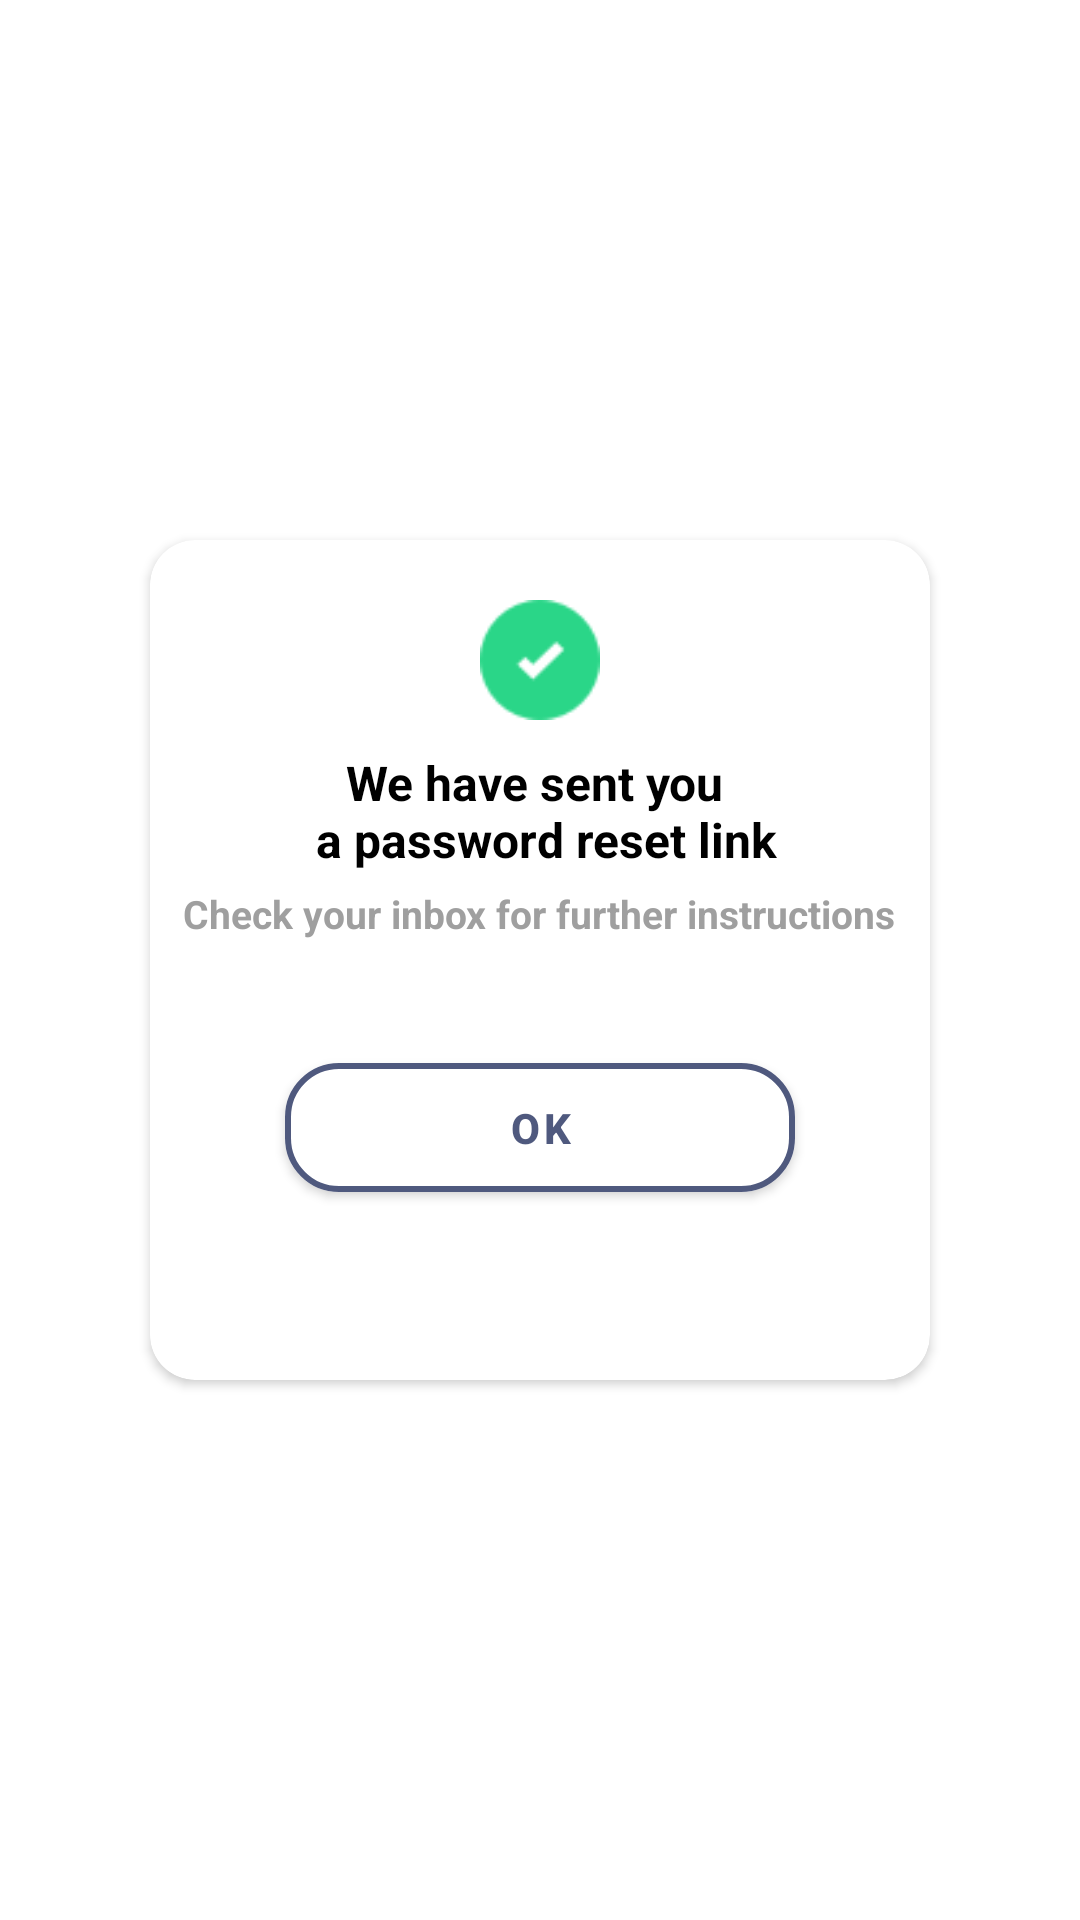

Icon click points for this 1080 × 1920 phone screenshot, format [x,y]:
successfully: [540,660]
